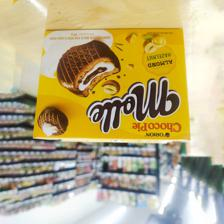Molle: (33, 26, 193, 142)
